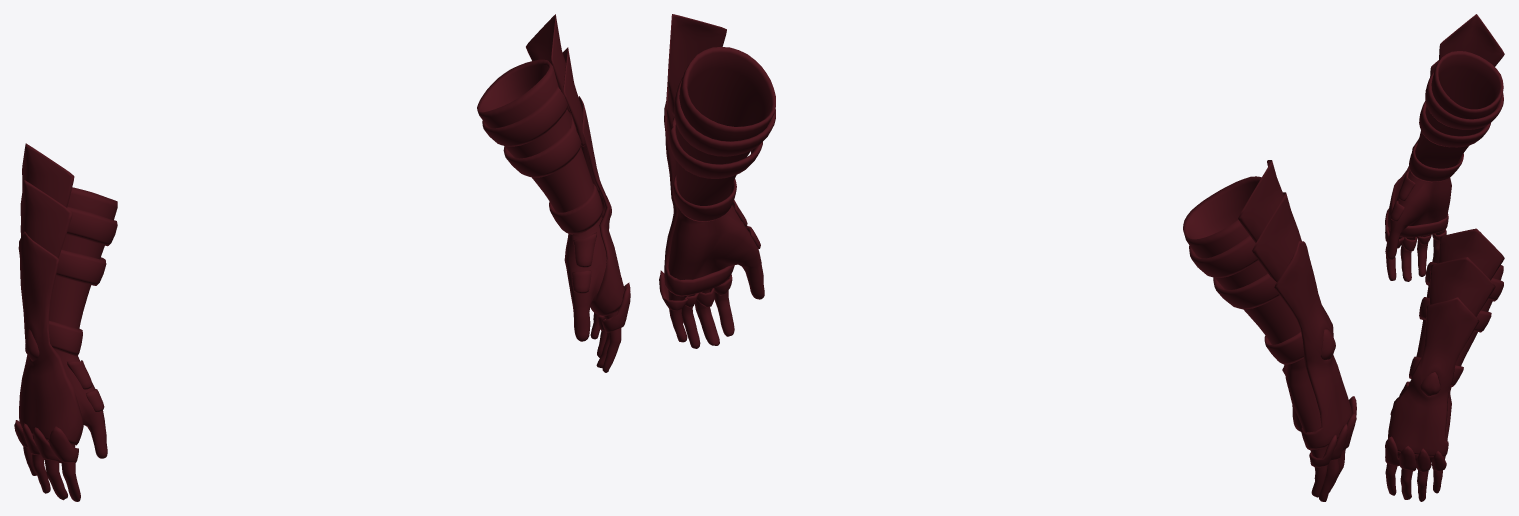
The model's file is uploads_files_2028223_Gauntlets.fbx.
3 views of the same model, side by side, from view 1: azimuth 30°, elevation 25°; view 2: azimuth 150°, elevation 25°; view 3: azimuth 270°, elevation 25° (orthographic). The views are drawn at different scales.
Parts seen in each view (by area): view 1: Gauntlets.006; view 2: Gauntlets.006; view 3: Gauntlets.006.
Part boxes in pixels (x1,y1,x2,y2): Gauntlets.006: (14,14,630,501); Gauntlets.006: (659,14,1356,501); Gauntlets.006: (1385,14,1504,501).
Bounding box in the file's own units: 85.7 × 44.36 × 17.88.
